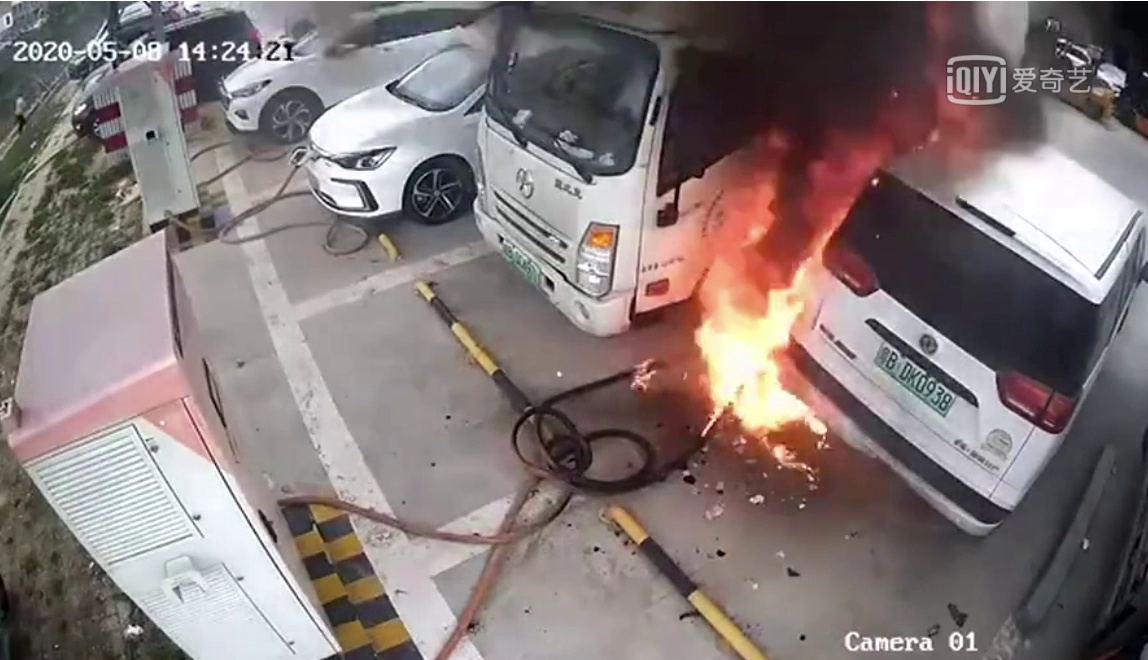fire: (704, 228, 835, 462)
smoke: (691, 9, 938, 186)
